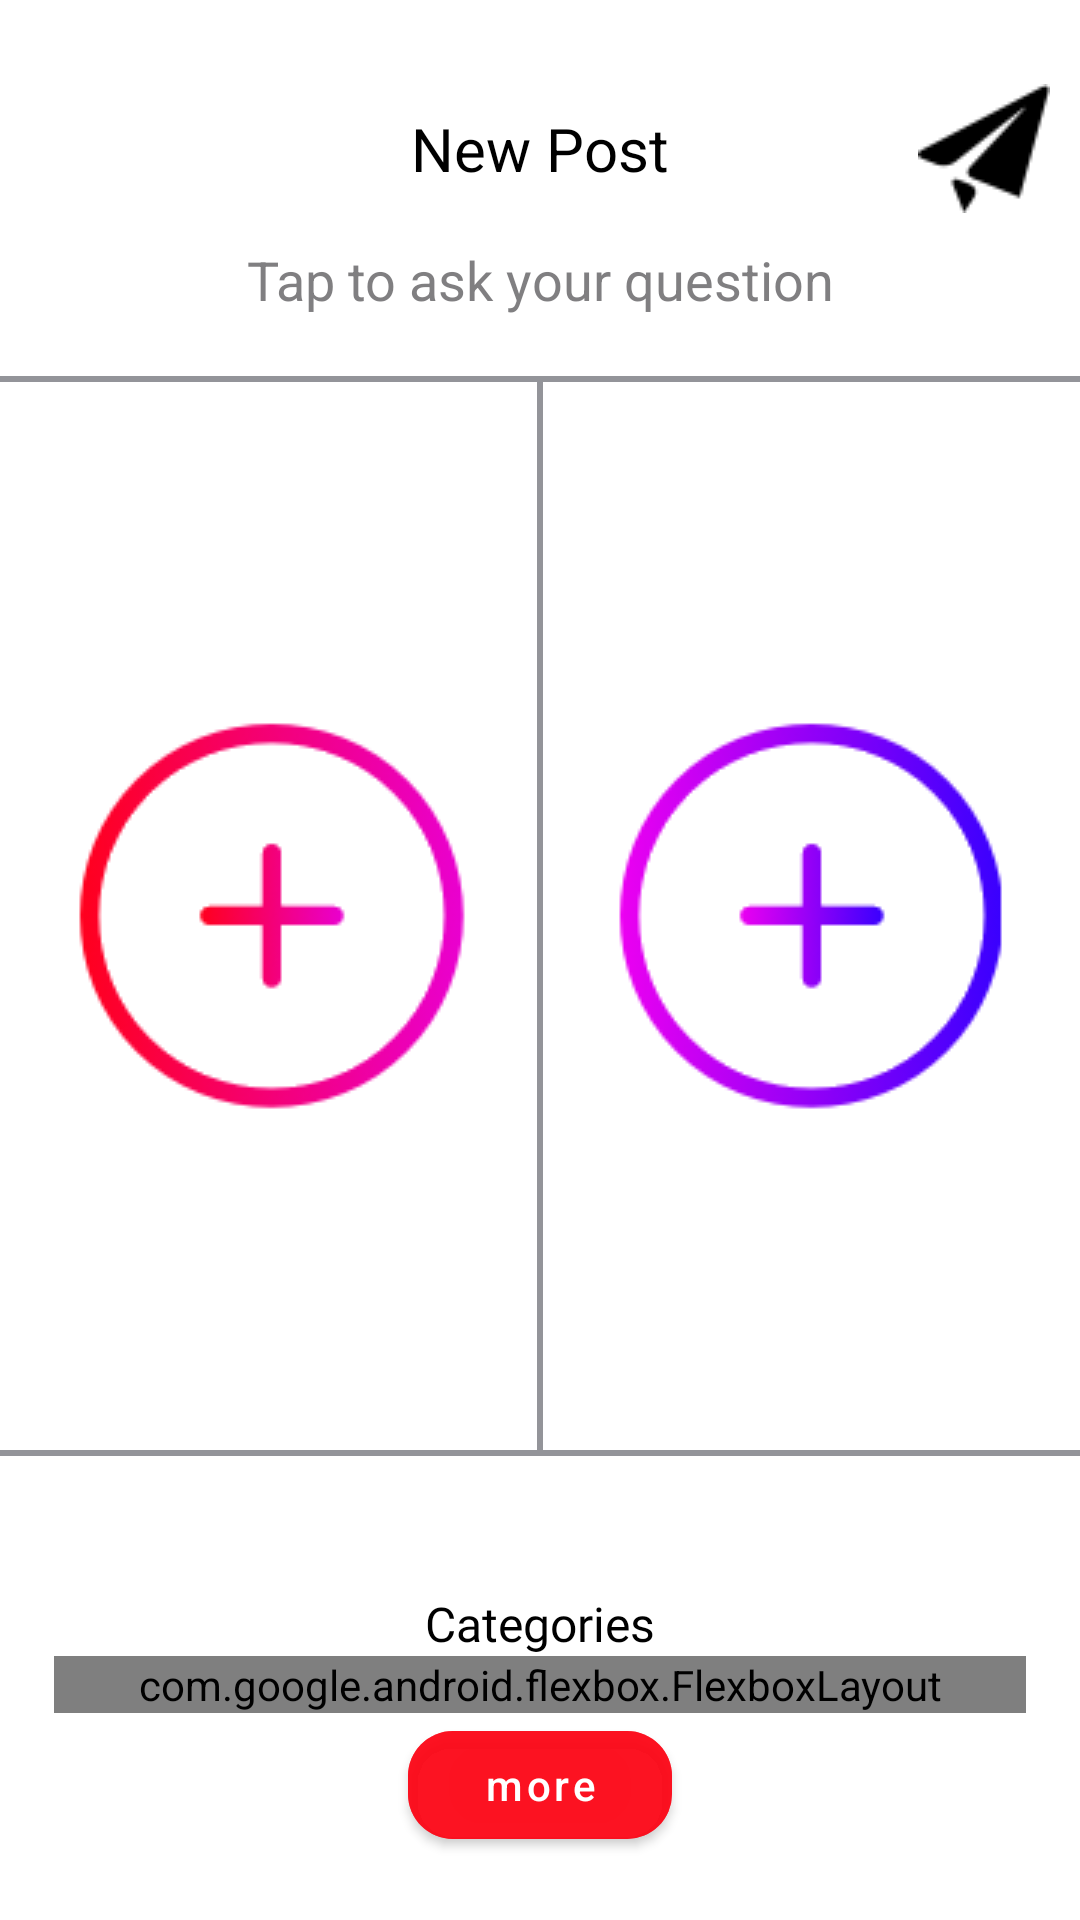

Icons on this 1080×1920 Android screen, each with the point to tap as point (x, y):
send letter: point (984, 148)
